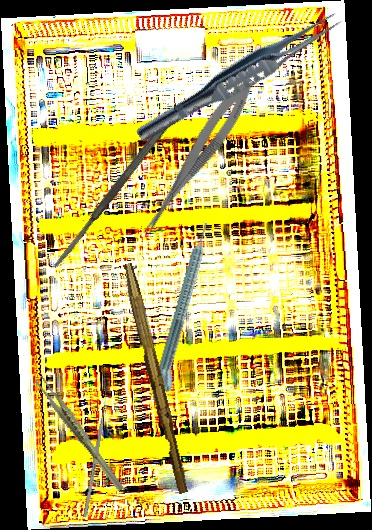Handpiece: (148, 221, 221, 405)
Micro Scissor: (134, 71, 262, 246)
Pusher: (83, 392, 109, 518)
Scalpel Handle: (116, 262, 194, 495)
Spatula Surgical: (49, 105, 182, 272)
Tissue Forceps: (132, 1, 347, 153), (33, 364, 126, 504)
